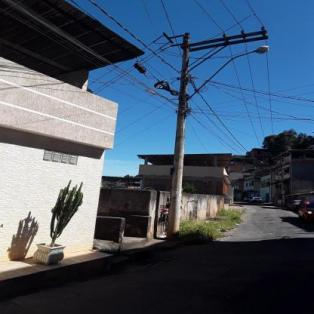Poste: (163, 31, 193, 241)
